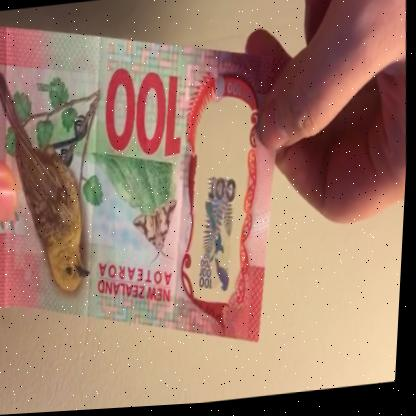100B: (190, 134, 249, 303)
